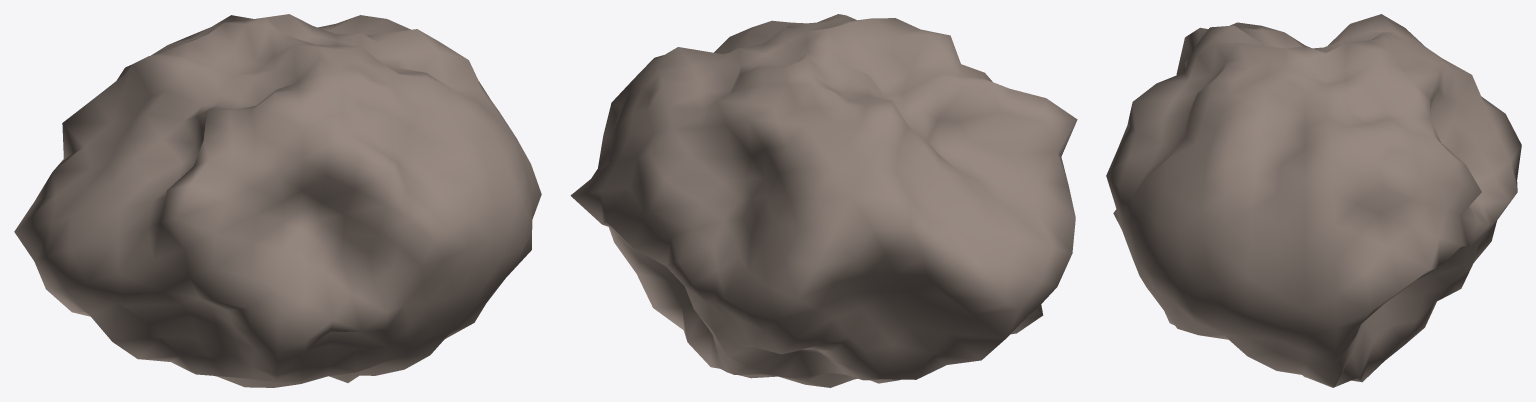
File: Thebe.fbx
The picture shows the model from 3 angles, left to right: view 1: azimuth 30°, elevation 25°; view 2: azimuth 150°, elevation 25°; view 3: azimuth 270°, elevation 25°; orthographic projection. The views are drawn at different scales.
Parts seen in each view (by area): view 1: ThebeSurface; view 2: ThebeSurface; view 3: ThebeSurface.
Boxes of the visible parts, x1=… form: ThebeSurface: x1=14, y1=14, x2=541, y2=387; ThebeSurface: x1=570, y1=14, x2=1077, y2=387; ThebeSurface: x1=1106, y1=14, x2=1521, y2=387.
Size of the model in its own units: 2.54 by 1.85 by 2.25.
